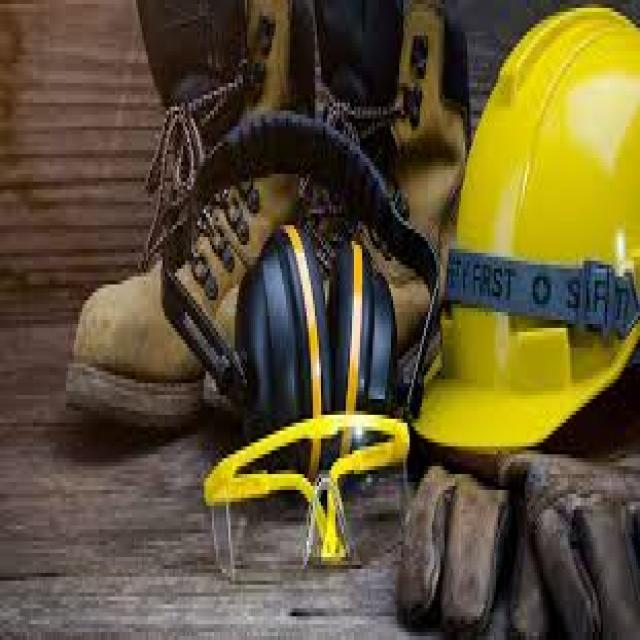Boots: (65, 0, 472, 437)
Ear Muffs: (232, 212, 328, 487), (327, 213, 401, 485)
Gloves: (390, 450, 624, 639)
Hard Hat: (425, 6, 640, 549)
Safety Glasses: (198, 420, 419, 588)
